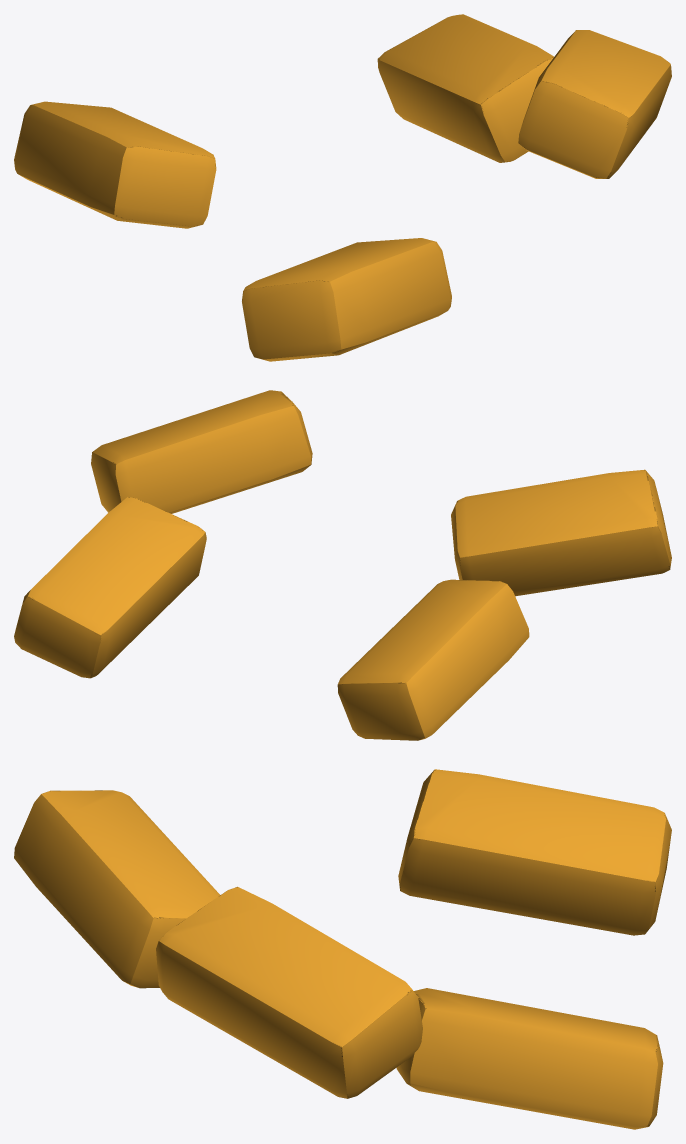
3 renders of one model, top to bottom at view 1: azimuth 30°, elevation 25°; view 2: azimuth 150°, elevation 25°; view 3: azimuth 270°, elevation 25°, orthographic. The views are drawn at different scales.
Parts seen in each view (by area): view 1: Cube.013_Baked; view 2: Cube.013_Baked; view 3: Cube.013_Baked.
Part boxes in pixels (x1,y1,x2,y2): Cube.013_Baked: (14, 14, 671, 361); Cube.013_Baked: (14, 390, 671, 740); Cube.013_Baked: (14, 769, 671, 1129).
Bounding box in the file's own units: 31.84 × 10.35 × 30.98.
Materials: 1 (1 with a texture image).
